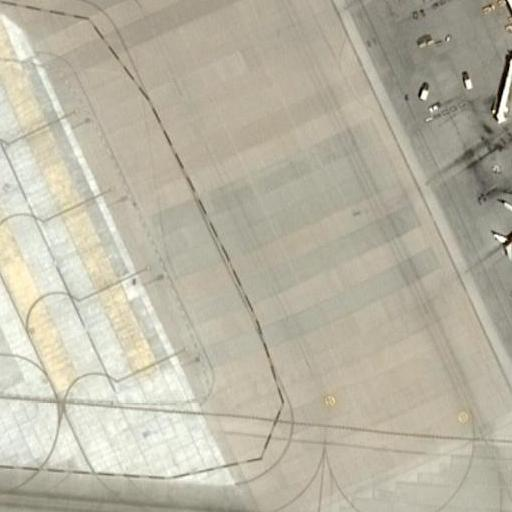Aircraft: (485, 194, 512, 264)
